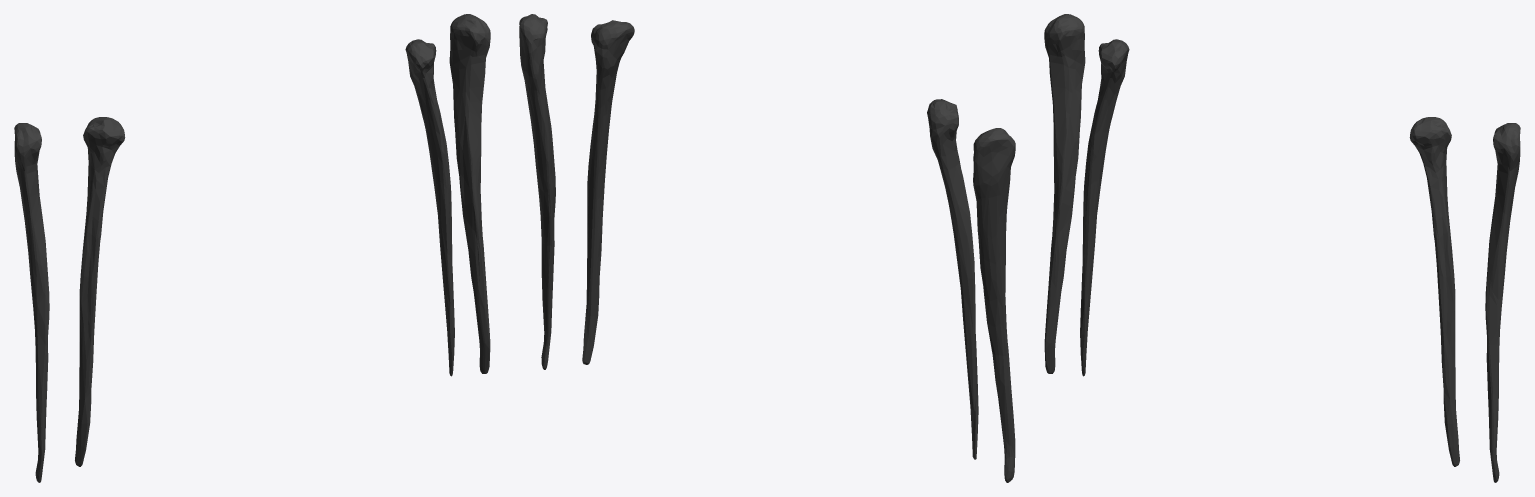
The model's file is skel_HL_splints.glb.
3 renders of one model, left to right at view 1: azimuth 30°, elevation 25°; view 2: azimuth 150°, elevation 25°; view 3: azimuth 330°, elevation 25°, orthographic. The views are drawn at different scales.
Parts seen in each view (by area): view 1: skel_HL_splints; view 2: skel_HL_splints; view 3: skel_HL_splints.
Boxes of the visible parts, box(x1,y1,x2,y2) form: skel_HL_splints: box(14, 14, 490, 482); skel_HL_splints: box(519, 14, 1015, 482); skel_HL_splints: box(1044, 14, 1520, 482).
Bounding box in the file's own units: 0.00501 × 0.00352 × 0.000648.
Materials: 1 (1 with a texture image).
